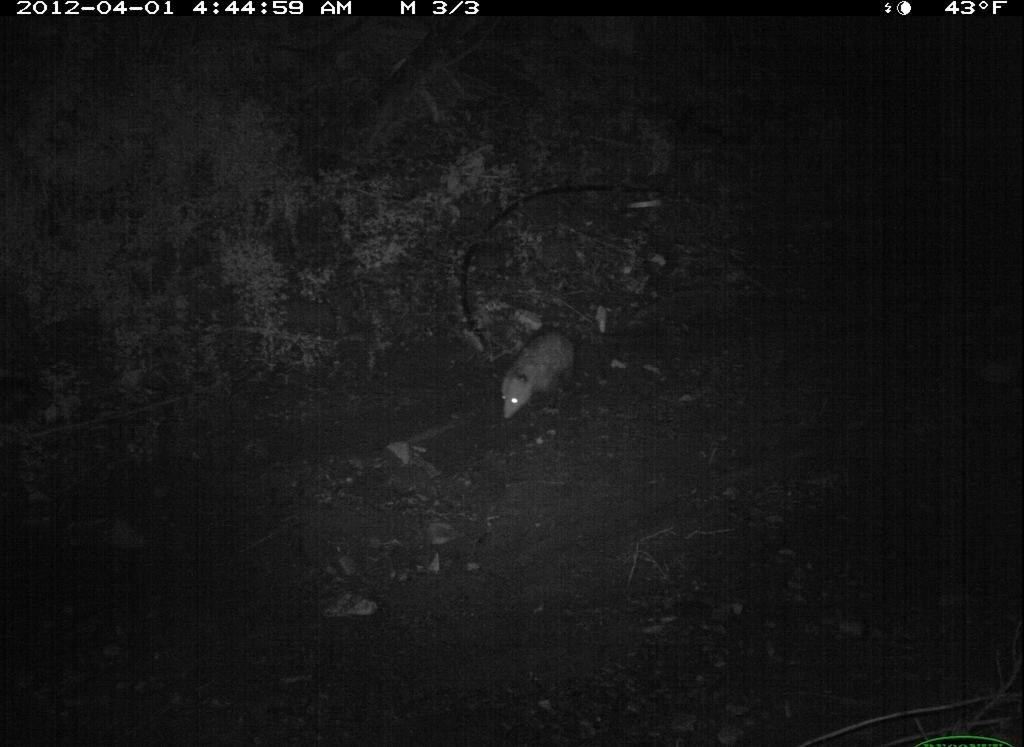opossum: (495, 317, 601, 429)
